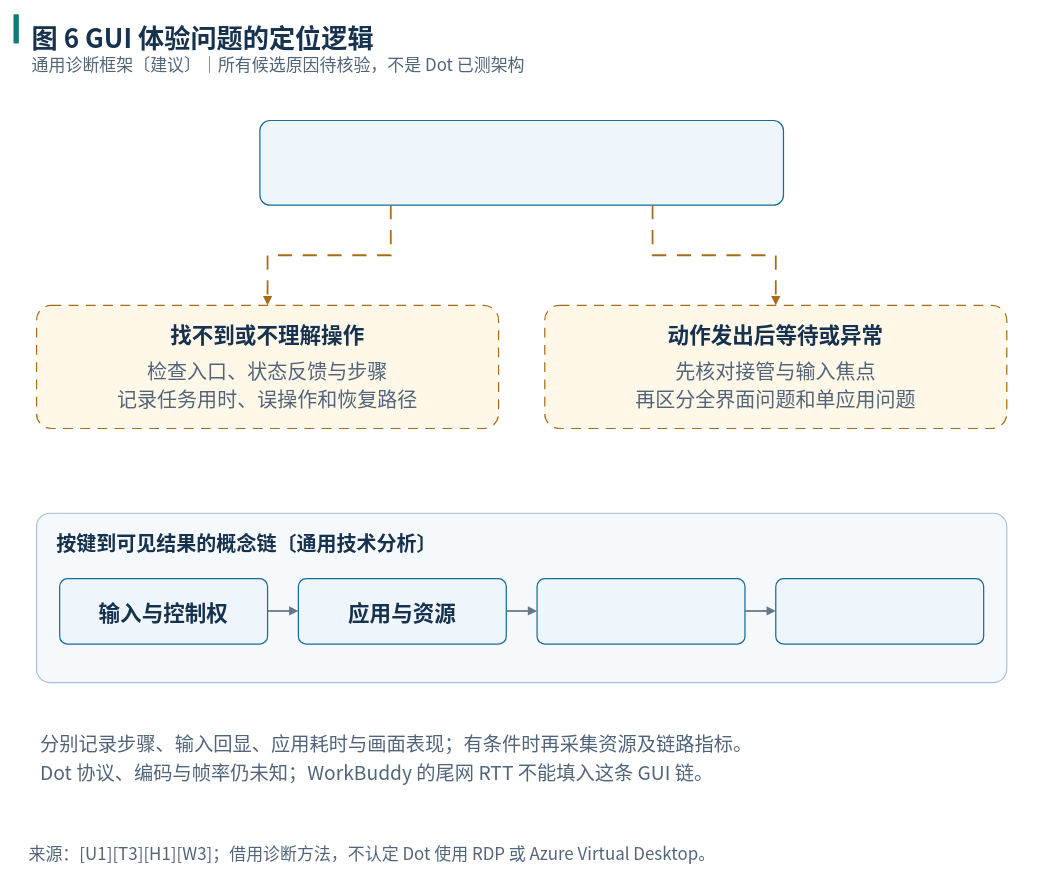
Some shapes in this 1046 by 884 pixel diagram are drawn without their labels. Here are the shapes that lost their labels. From the top down, the centre of each, then its label:
At point 521,162: "用户反馈〔观察〕 界面简陋、总体使用体验差".
At point 640,611: "画面与传输".
At point 879,611: "客户端呈现".
